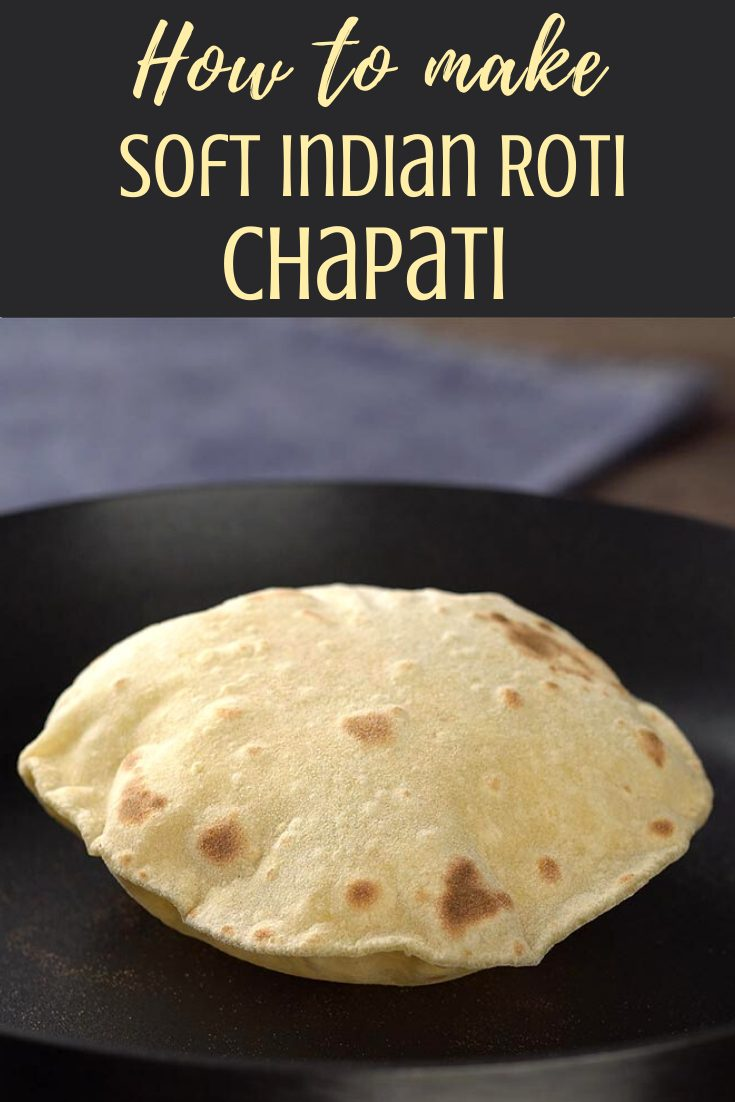Farata: (44, 507, 683, 1013)
